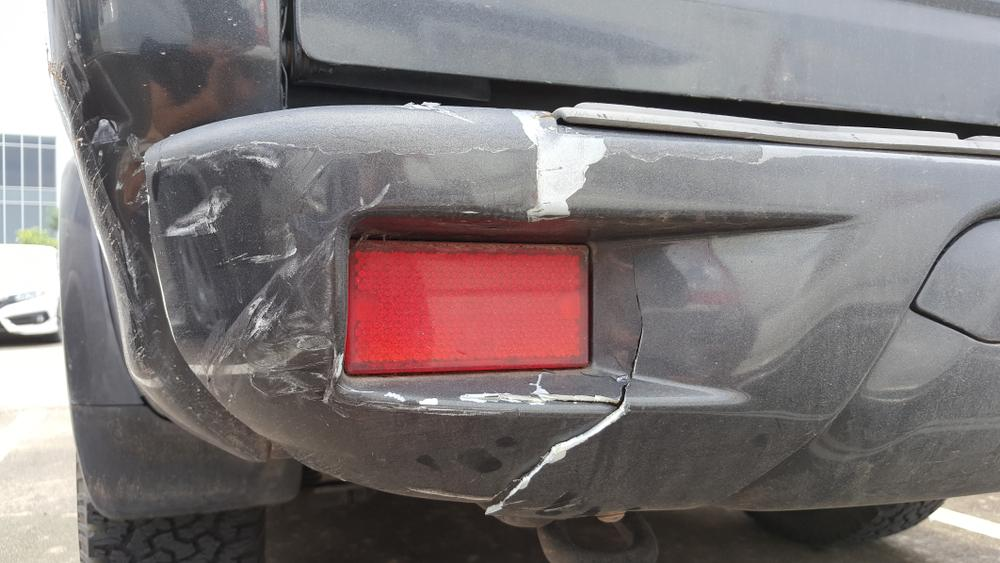crack: (487, 251, 645, 513)
scratch: (151, 138, 553, 412)
